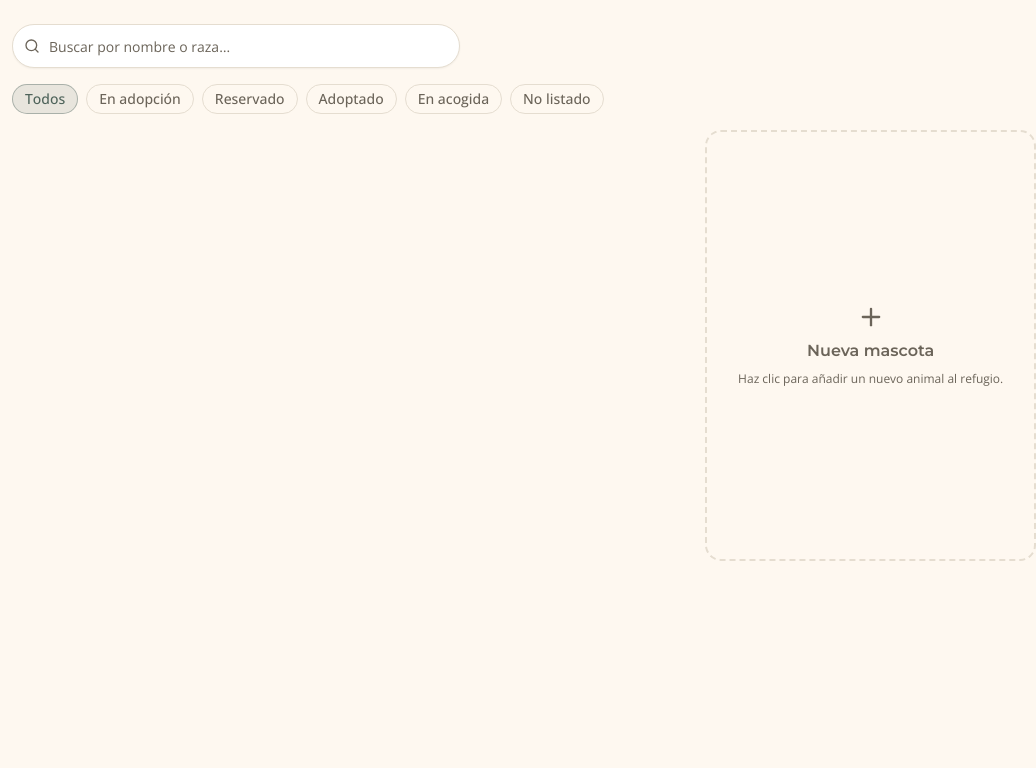
Test case: AnimalesGrid › la búsqueda filtra por nombre
Type "luna" into the search field with placeholder "Buscar por nombre o raza…". click: (236, 46)
box: 12,24 -> 460,68
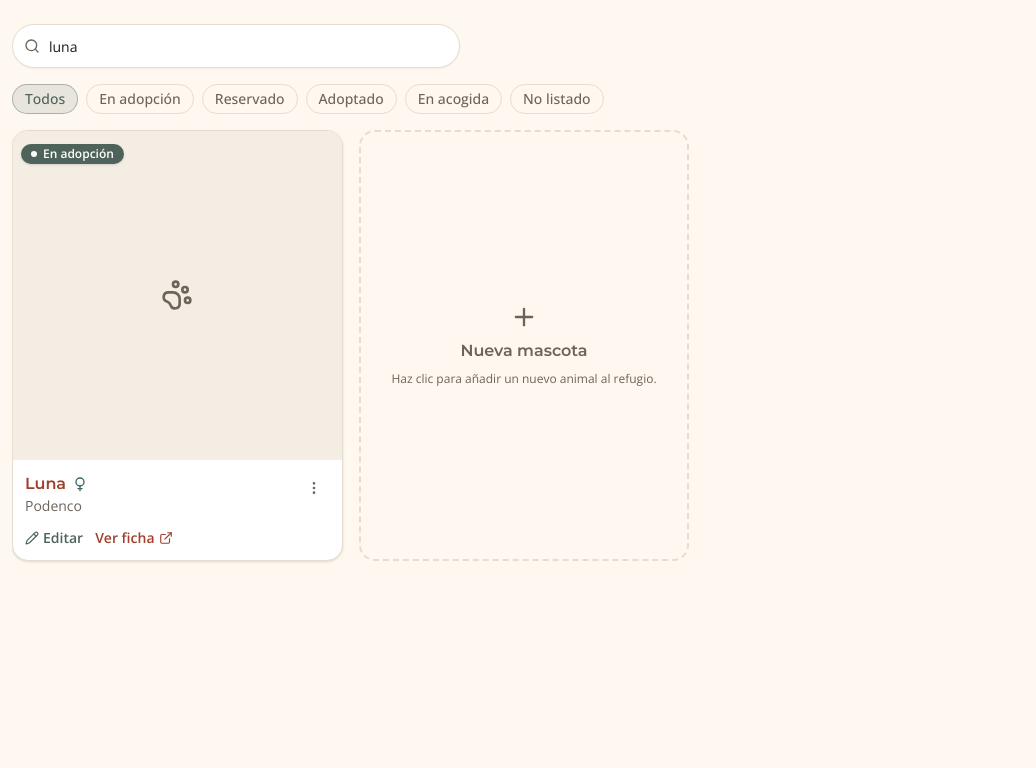
Expected: the text "Luna" is shown, 25,472 -> 88,496
